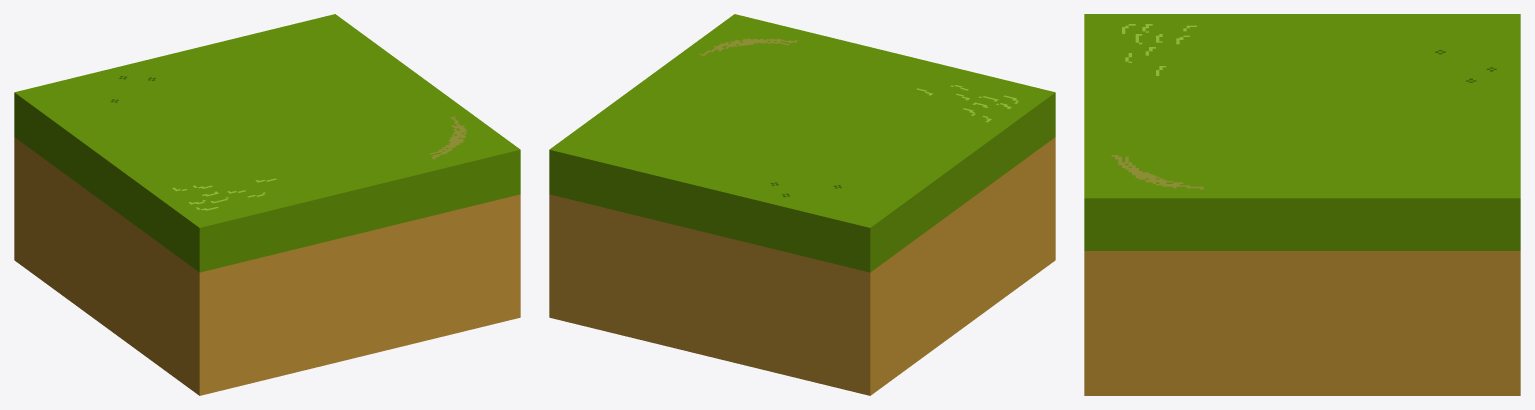
3 views of the same model, side by side, from view 1: azimuth 30°, elevation 25°; view 2: azimuth 150°, elevation 25°; view 3: azimuth 270°, elevation 25° (orthographic). The views are drawn at different scales.
Visible parts, largest first — view 1: 12B; view 2: 12B; view 3: 12B.
Boxes of the visible parts, x1,y1,x2,y2 form: 12B: [14, 14, 520, 395]; 12B: [549, 14, 1055, 395]; 12B: [1084, 14, 1520, 395].
Size of the model in its own units: 12.8 by 6.4 by 12.8.
1 material, 1 textured.
